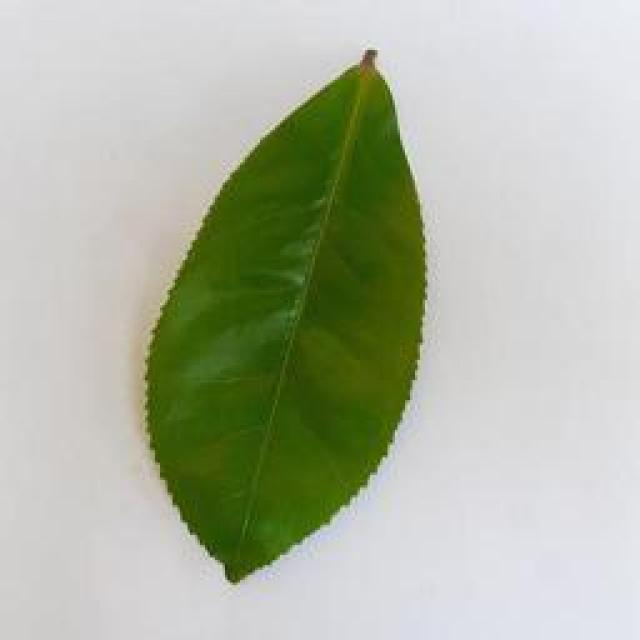Healthy: (137, 45, 436, 582)
